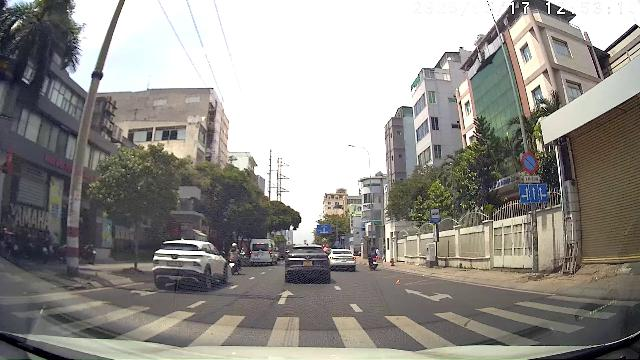131a-cam-do-xe: (522, 152, 538, 172)
